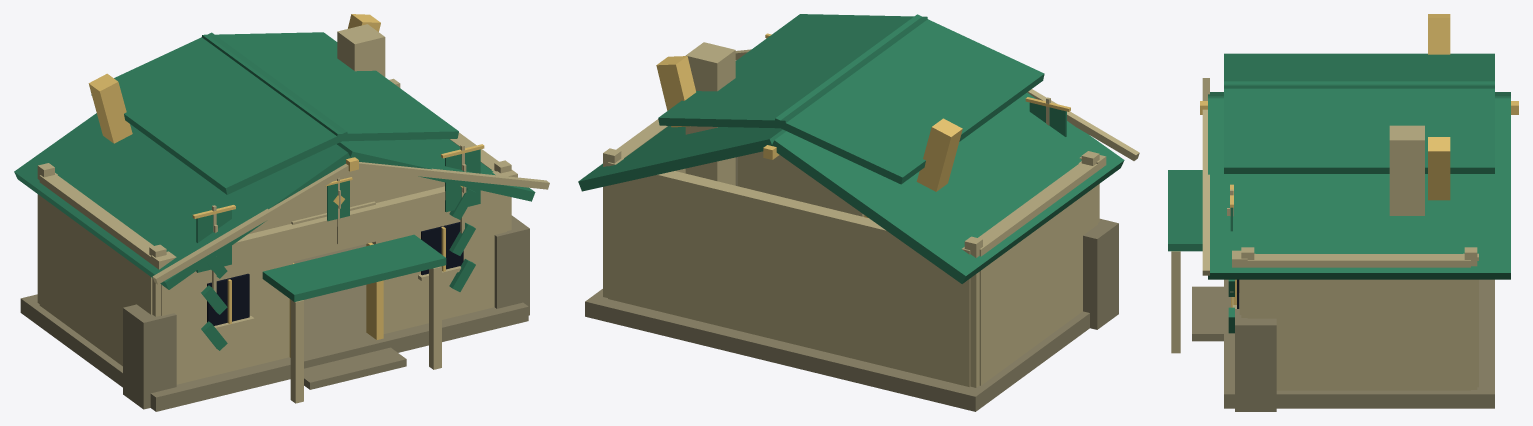
Rendered from hall_elf_lv2.glb.
The picture shows the model from 3 angles, left to right: view 1: azimuth 30°, elevation 25°; view 2: azimuth 150°, elevation 25°; view 3: azimuth 270°, elevation 25°; orthographic projection. The views are drawn at different scales.
Visible parts, largest first — view 1: hall_elf_lv2; view 2: hall_elf_lv2; view 3: hall_elf_lv2.
Boxes of the visible parts, box(x1,y1,x2,y2) form: hall_elf_lv2: box(14, 14, 549, 411); hall_elf_lv2: box(578, 14, 1139, 411); hall_elf_lv2: box(1168, 14, 1518, 411).
Bounding box in the file's own units: 28.54 × 16.61 × 22.
